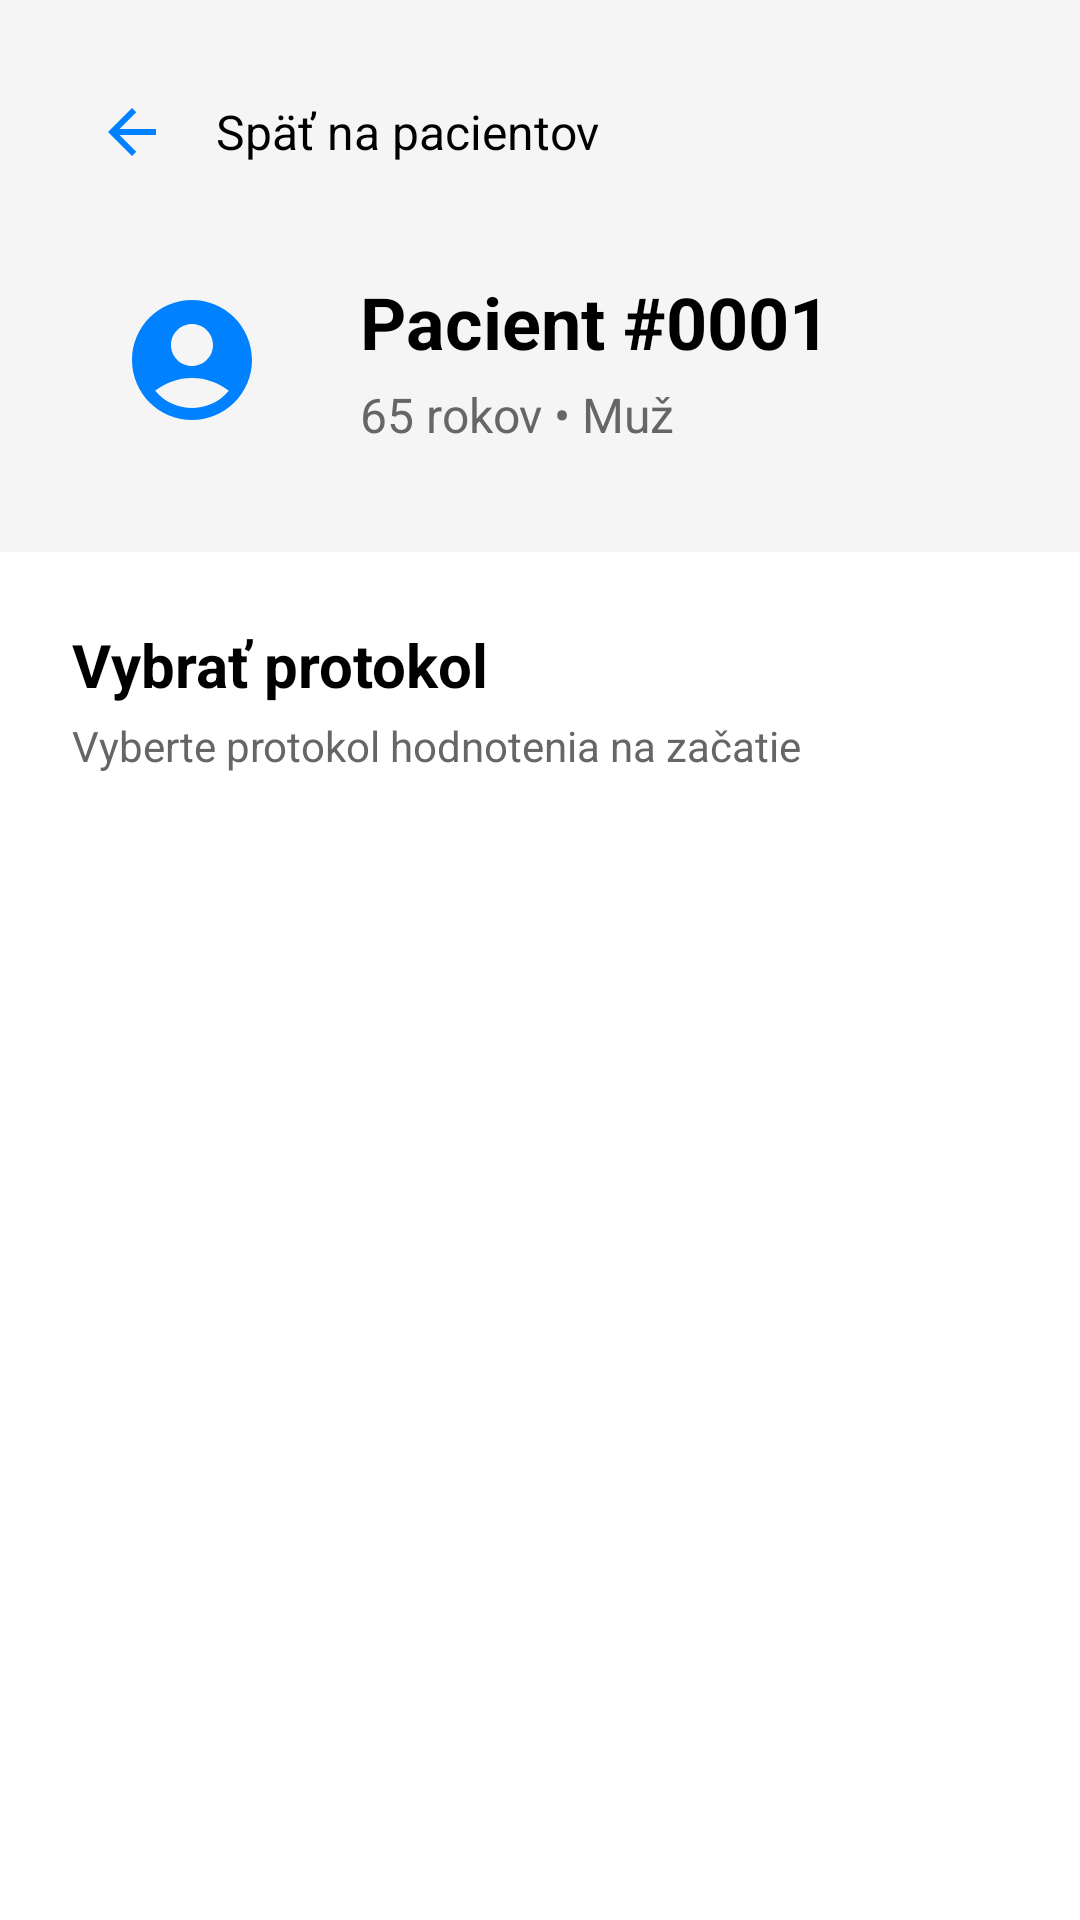

Where icons sit on this 1080*1920 app screen, as (x1=x1, y1=y1, x2=x2, y2=y2):
Back: (x1=108, y1=108, x2=156, y2=156)
